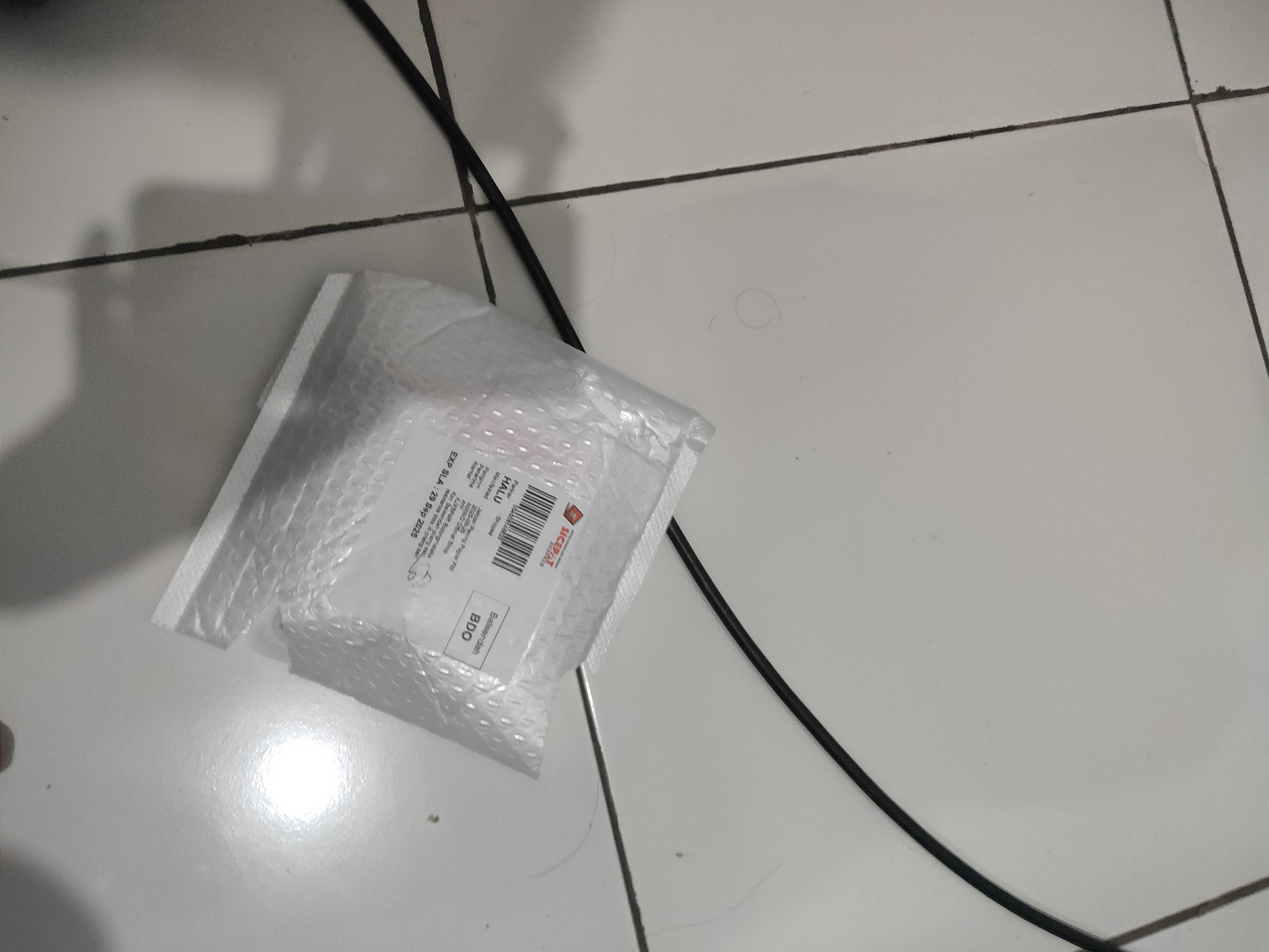damaged package: (535, 656, 590, 777), (221, 592, 298, 669)
undamaged: (144, 265, 727, 791)
